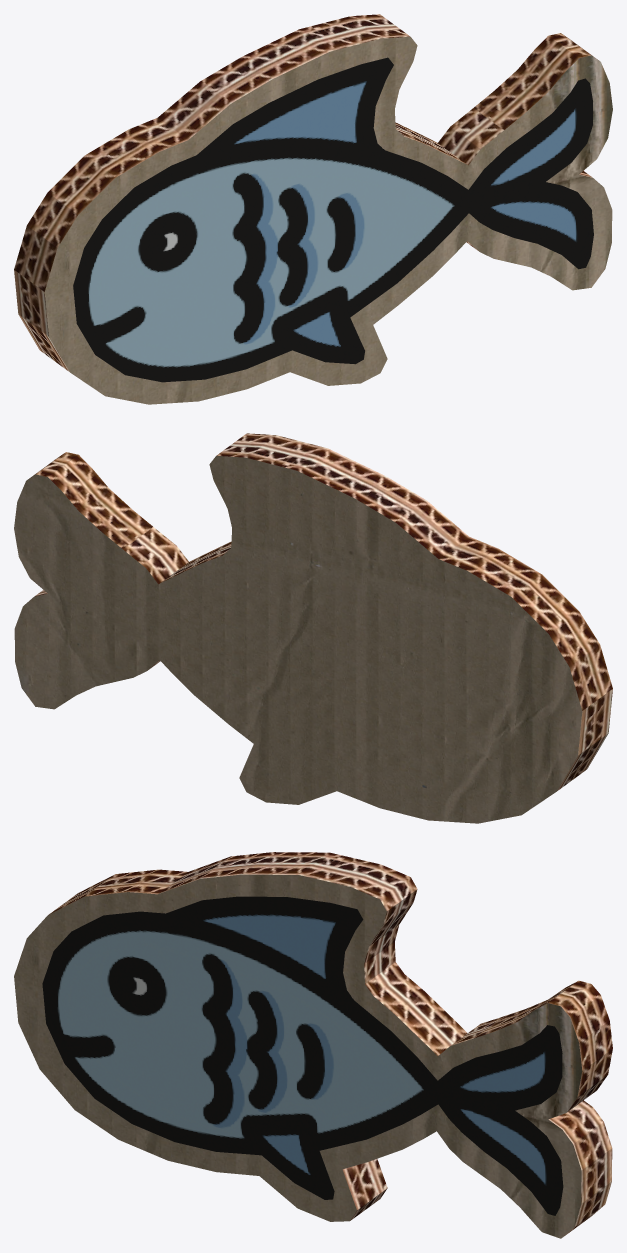
File: fish.fbx
3 views of the same model, one above another, from view 1: azimuth 30°, elevation 25°; view 2: azimuth 150°, elevation 25°; view 3: azimuth 330°, elevation 25° (orthographic).
Visible parts, largest first — view 1: fish; view 2: fish; view 3: fish.
Part boxes in pixels (x1,y1,x2,y2): fish: (14, 14, 612, 404); fish: (14, 433, 612, 823); fish: (14, 852, 612, 1238).
Size of the model in its own units: 85.61 by 48.93 by 8.
